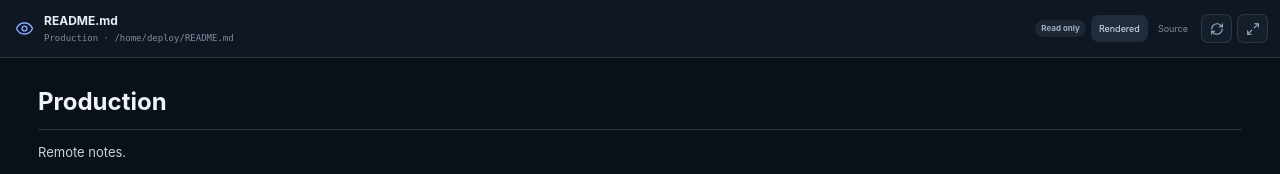
Test: preview window › renders the remote preview and toggles native fullscreen
Check: the heading "Production" is shown, box [38,82,1242,130]
Check: the text "Production · /home/deploy/README.md" is shown, box [44,32,234,45]
Click the button named "Enter fullscreen". click: (1252, 28)
box: [1237,14,1268,43]
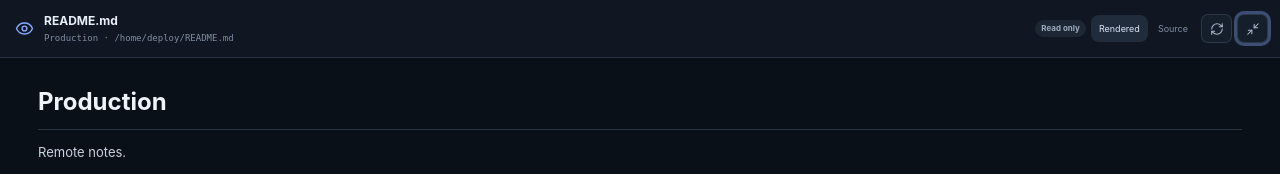
Check: the button named "Exit fullscreen" is shown
Click the button named "Exit fullscreen". click: (1252, 28)
box: [1237,14,1268,43]
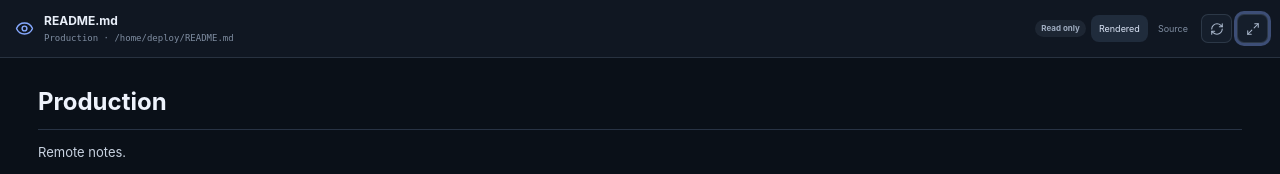
Check: the button named "Enter fullscreen" is shown, box [1237,14,1268,43]
